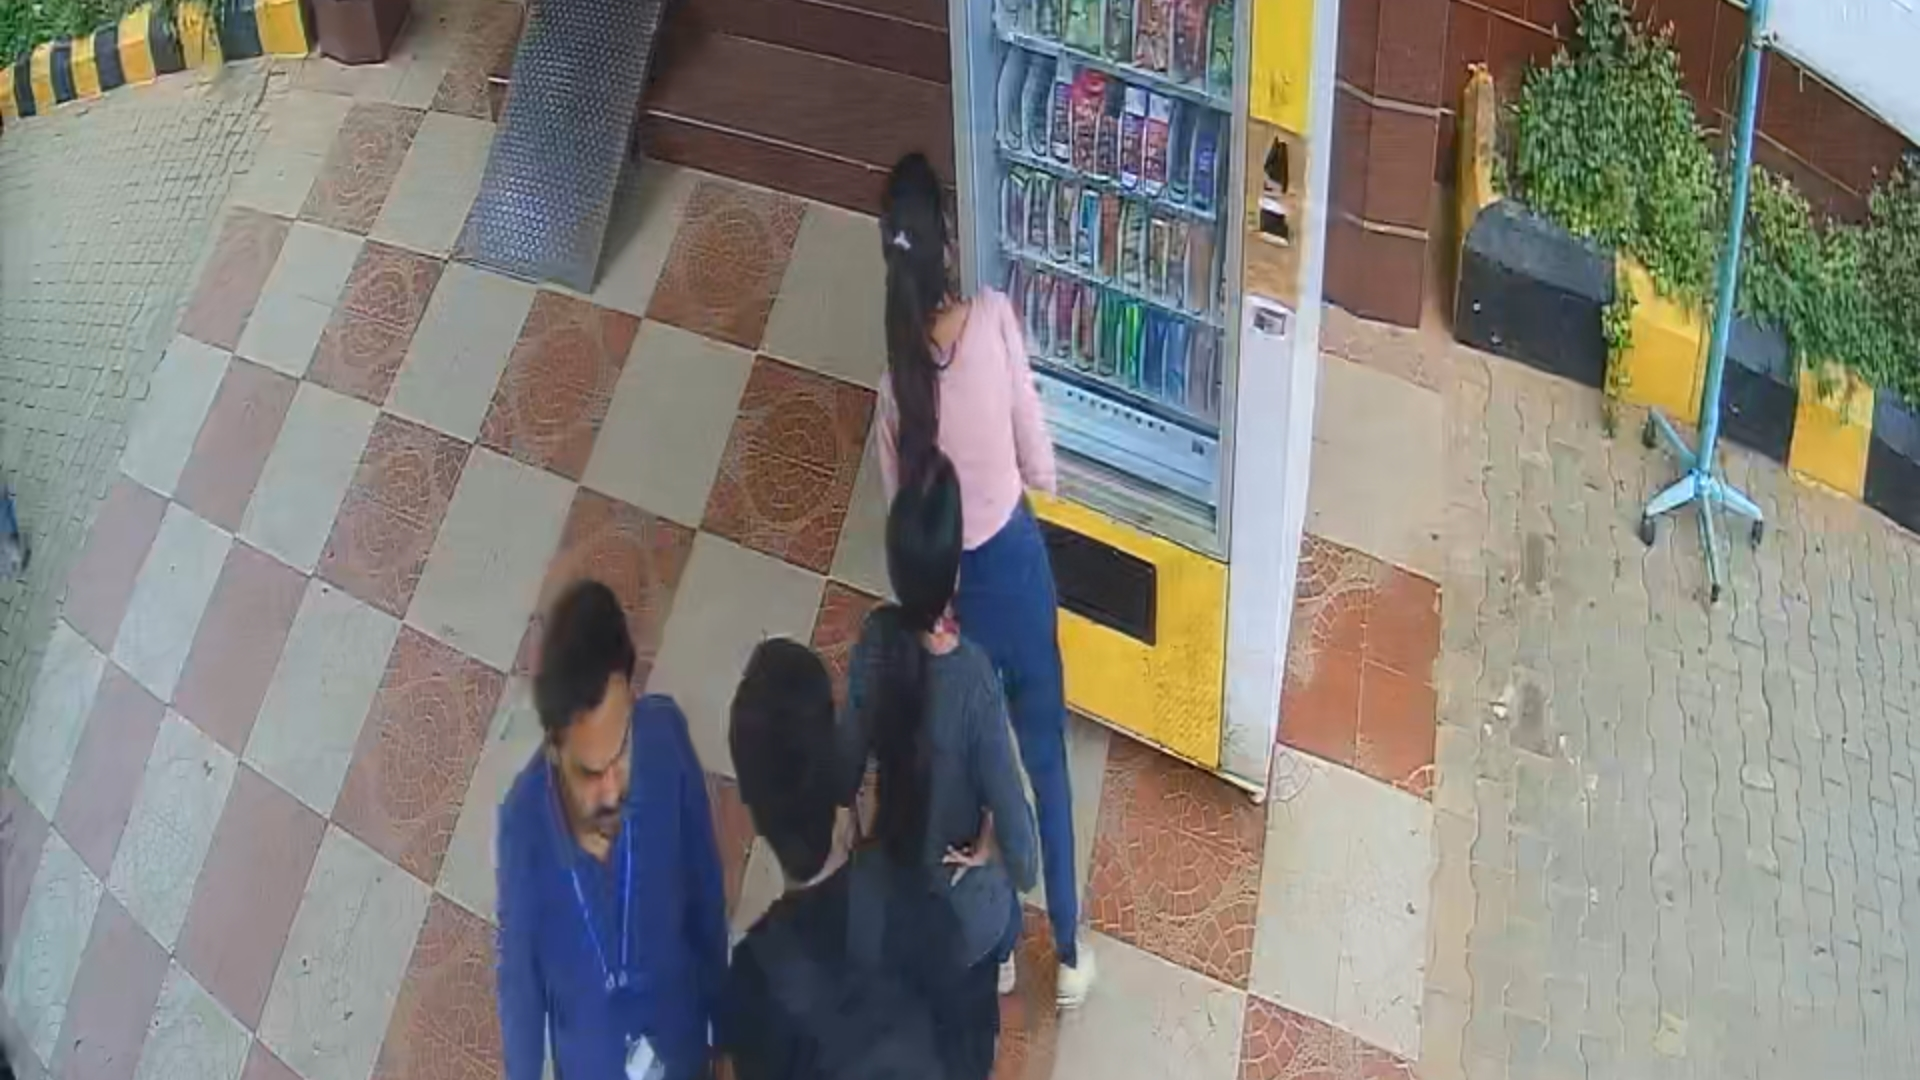not intruder: (485, 576, 742, 1080)
